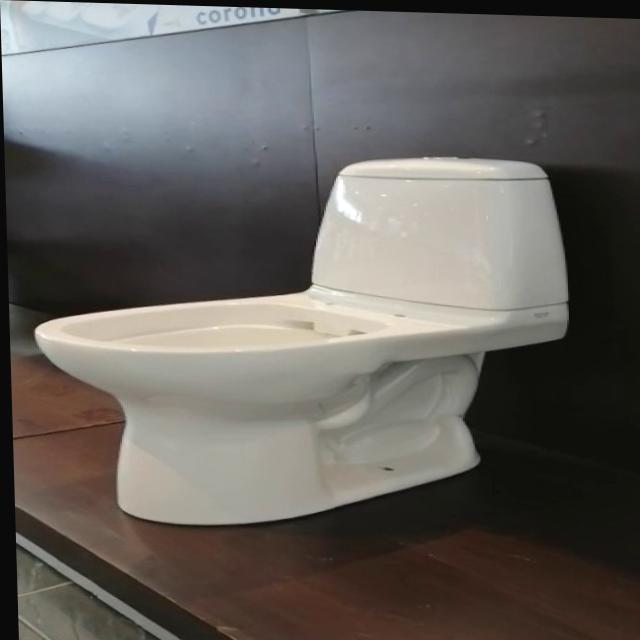toilet: (27, 143, 574, 533)
